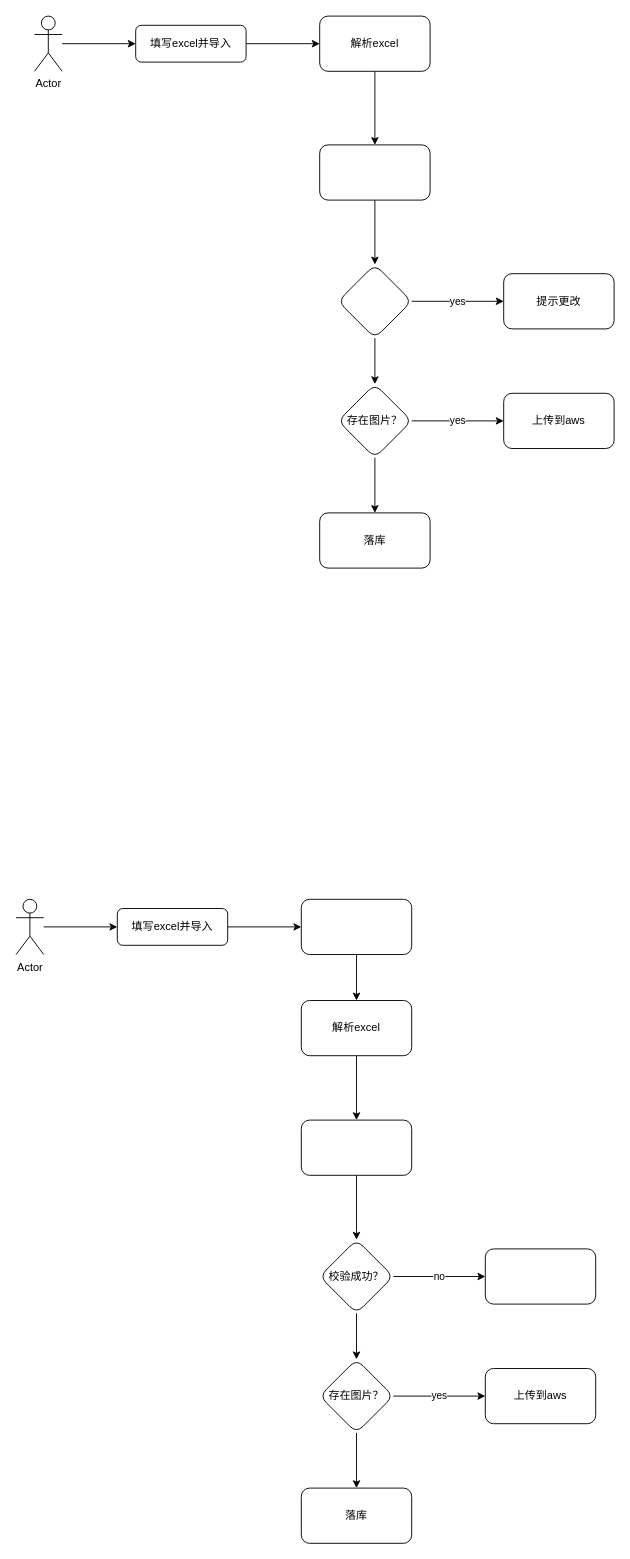
The diagram is 630 pixels wide and 1559 high, and some of its shapes have lost their labels. Here are the shapes that lost their labels. From the top down, the box of each, then its label:
(319, 144, 430, 200): 校验id
(337, 264, 412, 338): 存在该id的cp或者id为空?
(300, 898, 412, 954): 添加异步任务
(300, 1119, 412, 1175): 校验（必填项）
(484, 1248, 596, 1304): 失败原因添加进任务表
